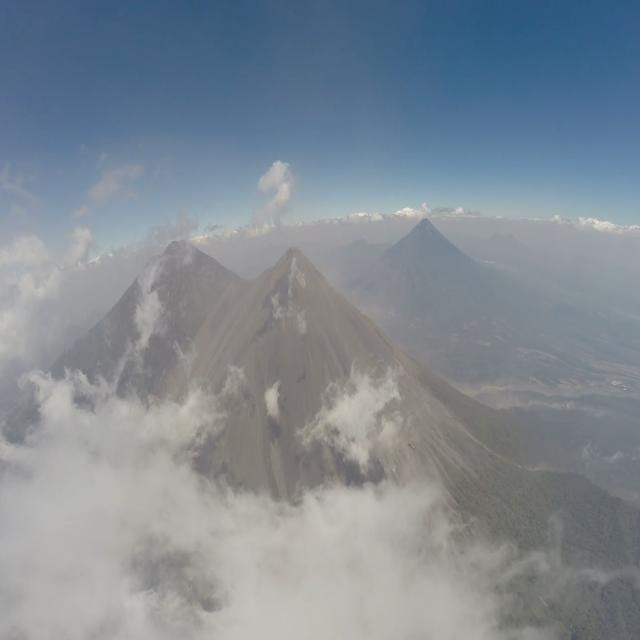Summit: (258, 244, 328, 298)
